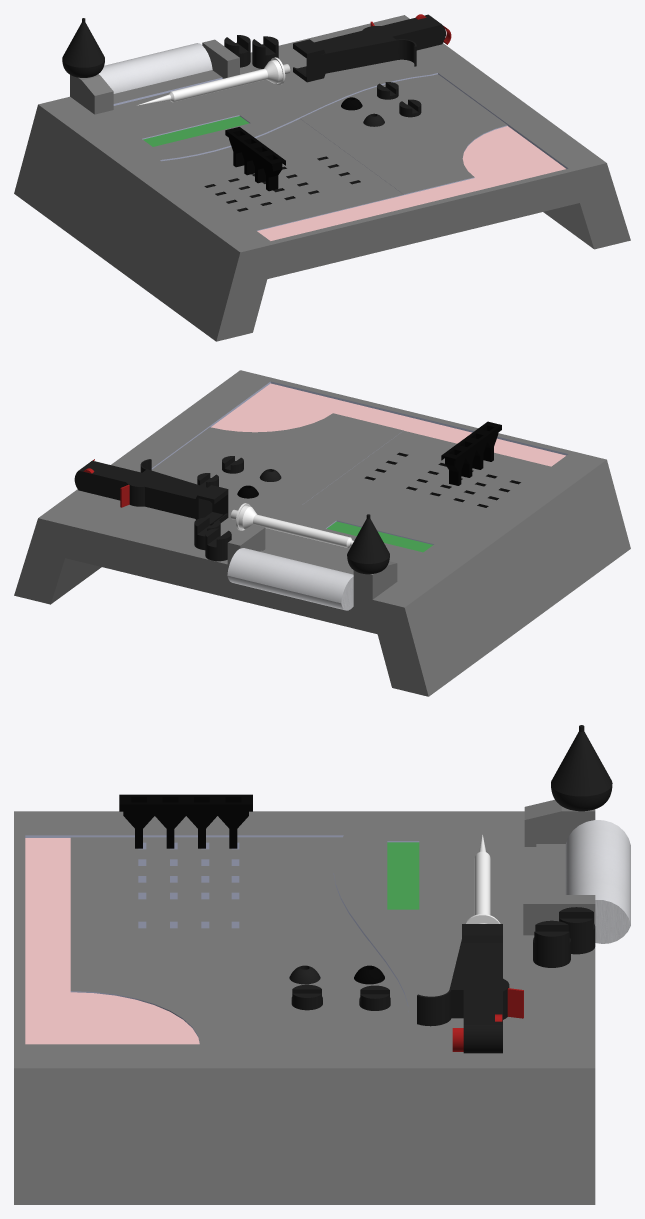
File: machine.fbx
3 renders of one model, top to bottom at view 1: azimuth 30°, elevation 25°; view 2: azimuth 150°, elevation 25°; view 3: azimuth 270°, elevation 25°, orthographic. The views are drawn at different scales.
Parts seen in each view (by area): view 1: light grey low gloss plastic, light grey soft touch plastic, black low gloss plastic, color-2 : bUTTON%20pAD - 1 : Part1-1 Body-0 Face-26, cotton white 2d, frosted glass, polypropylene, color, black medium gloss plastic, green medium gloss plastic; view 2: light grey low gloss plastic, light grey soft touch plastic, black low gloss plastic, color-2 : bUTTON%20pAD - 1 : Part1-1 Body-0 Face-26, cotton white 2d, frosted glass, polypropylene, black medium gloss plastic, color, green medium gloss plastic; view 3: light grey low gloss plastic, light grey soft touch plastic, color-2 : bUTTON%20pAD - 1 : Part1-1 Body-0 Face-26, black low gloss plastic, cotton white 2d, frosted glass, black medium gloss plastic, color, green medium gloss plastic, polypropylene, red medium gloss plastic.
Part boxes in pixels (x1,y1,x2,y2): light grey low gloss plastic: (14,15,630,341); light grey soft touch plastic: (162,74,507,230); black low gloss plastic: (62,14,445,211); color-2 : bUTTON%20pAD - 1 : Part1-1 Body-0 Face-26: (257,126,565,240); cotton white 2d: (99,43,212,93); frosted glass: (225,127,285,191); polypropylene: (137,57,285,105); color: (113,73,568,230); black medium gloss plastic: (224,35,278,68); green medium gloss plastic: (143,116,249,146); light grey low gloss plastic: (14,370,630,696); light grey soft touch plastic: (151,413,550,534); black low gloss plastic: (74,452,520,574); color-2 : bUTTON%20pAD - 1 : Part1-1 Body-0 Face-26: (211,383,565,466); cotton white 2d: (227,548,353,610); frosted glass: (441,421,501,485); polypropylene: (236,503,353,547); black medium gloss plastic: (194,517,231,561); color: (151,381,568,544); green medium gloss plastic: (327,521,432,552); light grey low gloss plastic: (14,799,595,1204); light grey soft touch plastic: (70,837,408,1044); color-2 : bUTTON%20pAD - 1 : Part1-1 Body-0 Face-26: (25,838,199,1044); black low gloss plastic: (289,725,612,1053); cotton white 2d: (565,820,630,943); frosted glass: (119,794,252,848); black medium gloss plastic: (533,907,595,967); color: (25,835,419,1043); green medium gloss plastic: (387,842,419,909); polypropylene: (465,834,500,923); red medium gloss plastic: (452,989,523,1051).
Bounding box in the file's own units: 43.8 × 16.4 × 39.27.
Materials: 14 (1 with a texture image).
